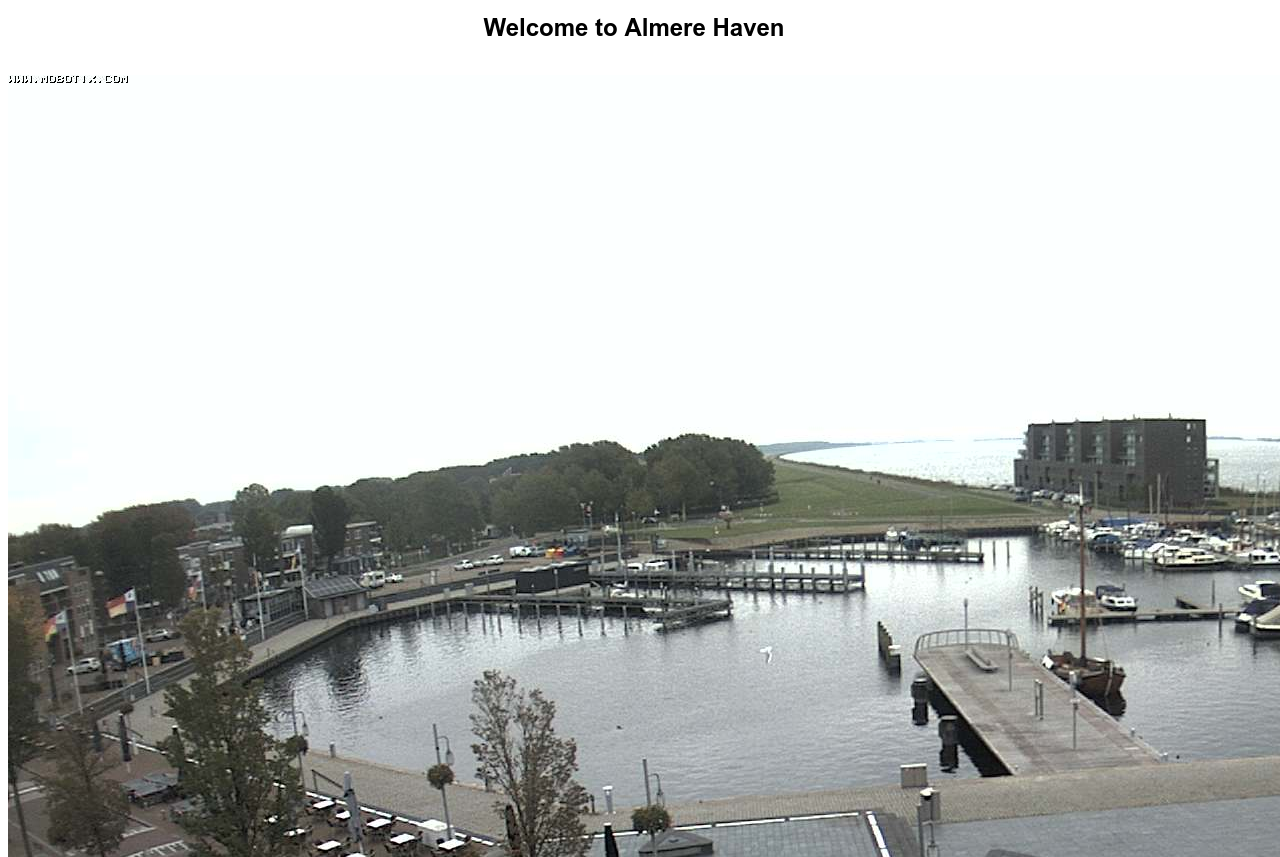maybe: (183, 569, 204, 604)
no: (287, 536, 302, 572)
yes: (100, 586, 141, 622), (37, 607, 72, 643)
